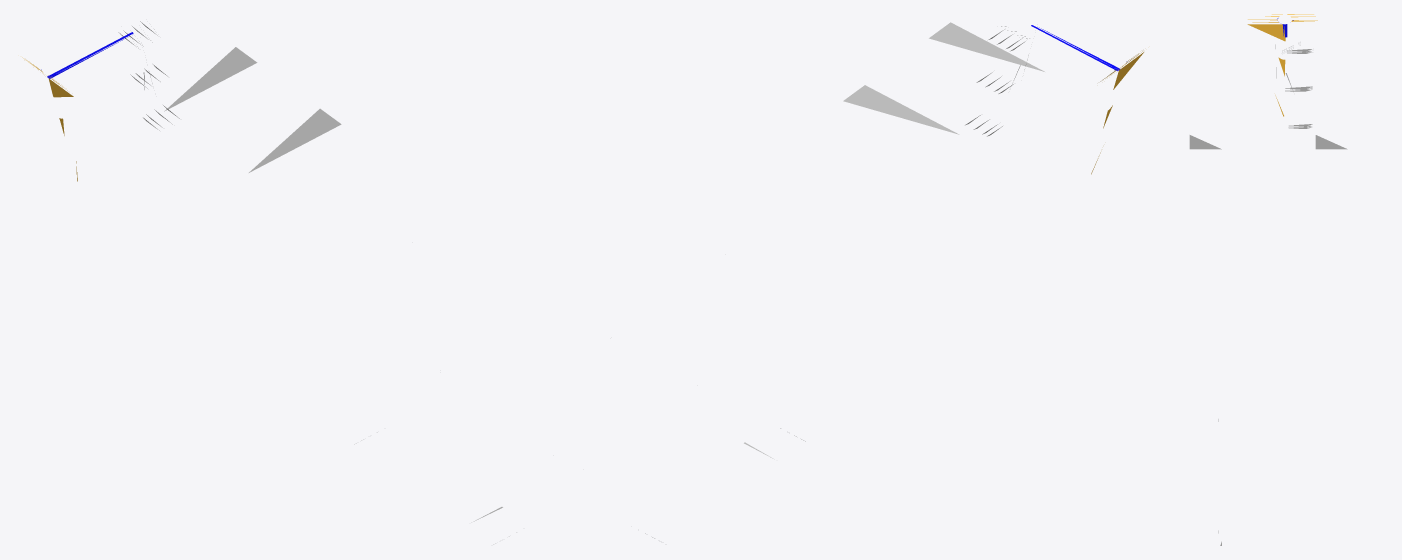
3 views of the same model, side by side, from view 1: azimuth 30°, elevation 25°; view 2: azimuth 150°, elevation 25°; view 3: azimuth 270°, elevation 25° (orthographic). The views are drawn at different scales.
Visible parts, largest first — view 1: F19721000063101500122_001_zb_ub_spanner_22_ba; view 2: F19721000063101500122_001_zb_ub_spanner_22_ba; view 3: F19721000063101500122_001_zb_ub_spanner_22_ba (×2).
Part boxes in pixels (<box>): F19721000063101500122_001_zb_ub_spanner_22_ba: <box>118,21,516,544</box>; F19721000063101500122_001_zb_ub_spanner_22_ba: <box>645,22,1044,538</box>; F19721000063101500122_001_zb_ub_spanner_22_ba (×2): <box>1189,14,1347,545</box>.
Bounding box in the file's own units: 106 × 54 × 116.
